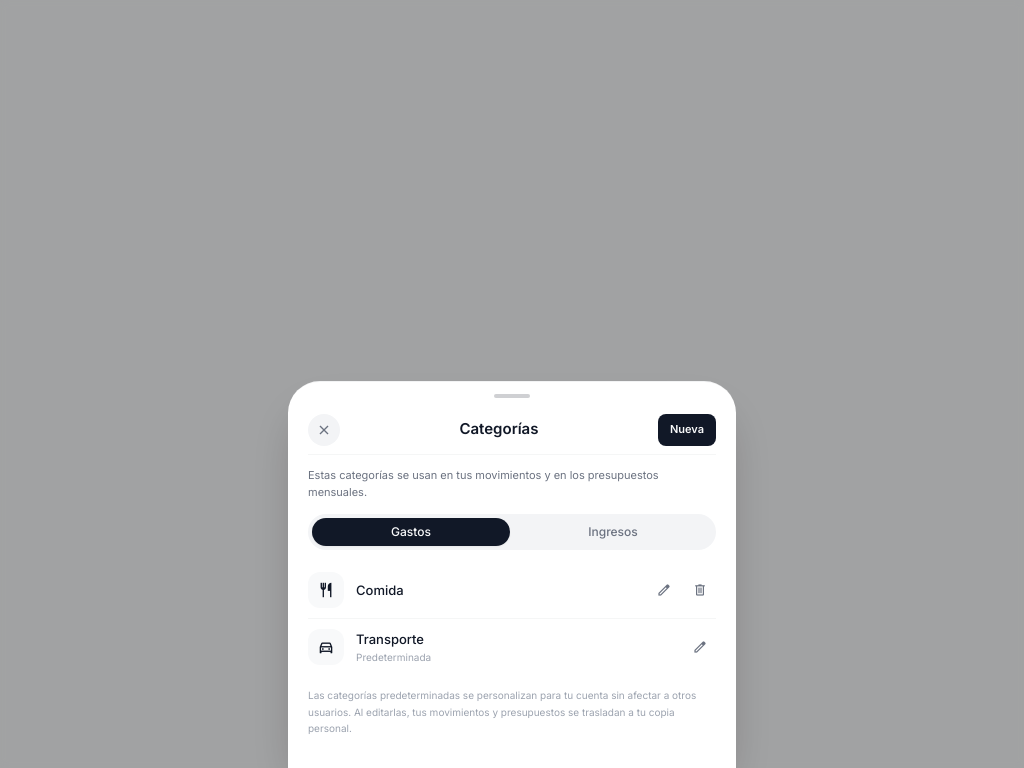
CategoriesManager › elimina una categoría propia tras confirmar
The image size is (1024, 768).
Expected: the text "Comida" is shown, [356,582,404,598]
Click the button named "Eliminar Comida" at coordinates (700, 590), box [684,574,716,606]
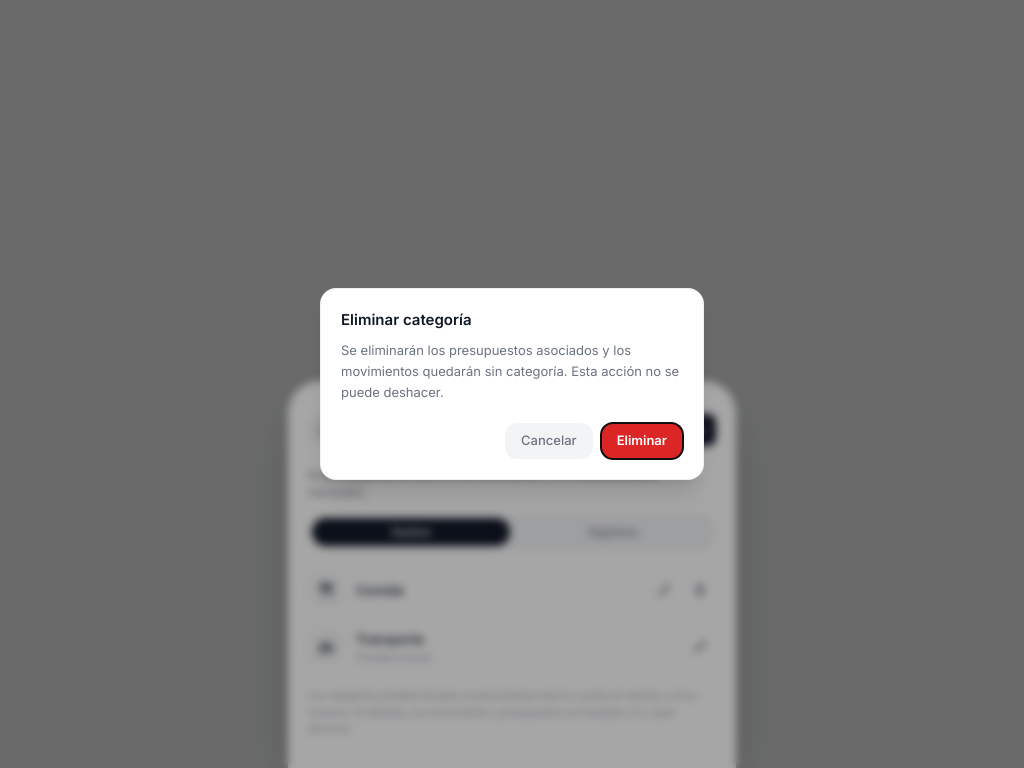
Click the button "Eliminar" at coordinates (642, 441), box [601,423,683,459]
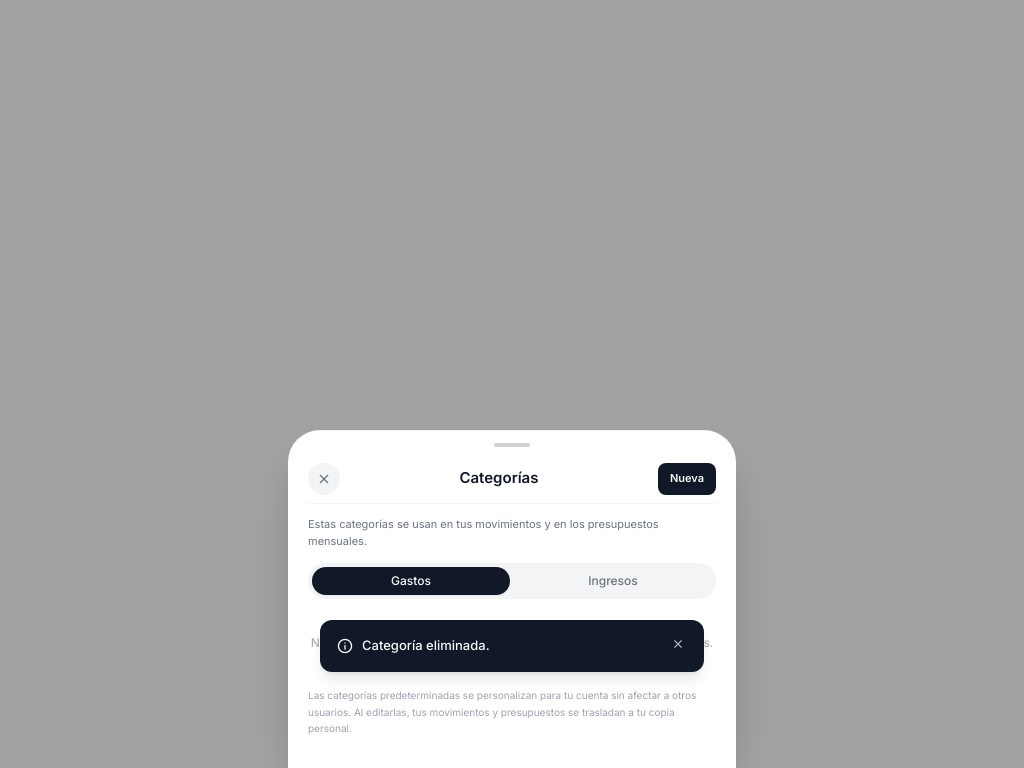
Now the text "No hay categorías de gasto" is shown, box [311,635,713,650]
